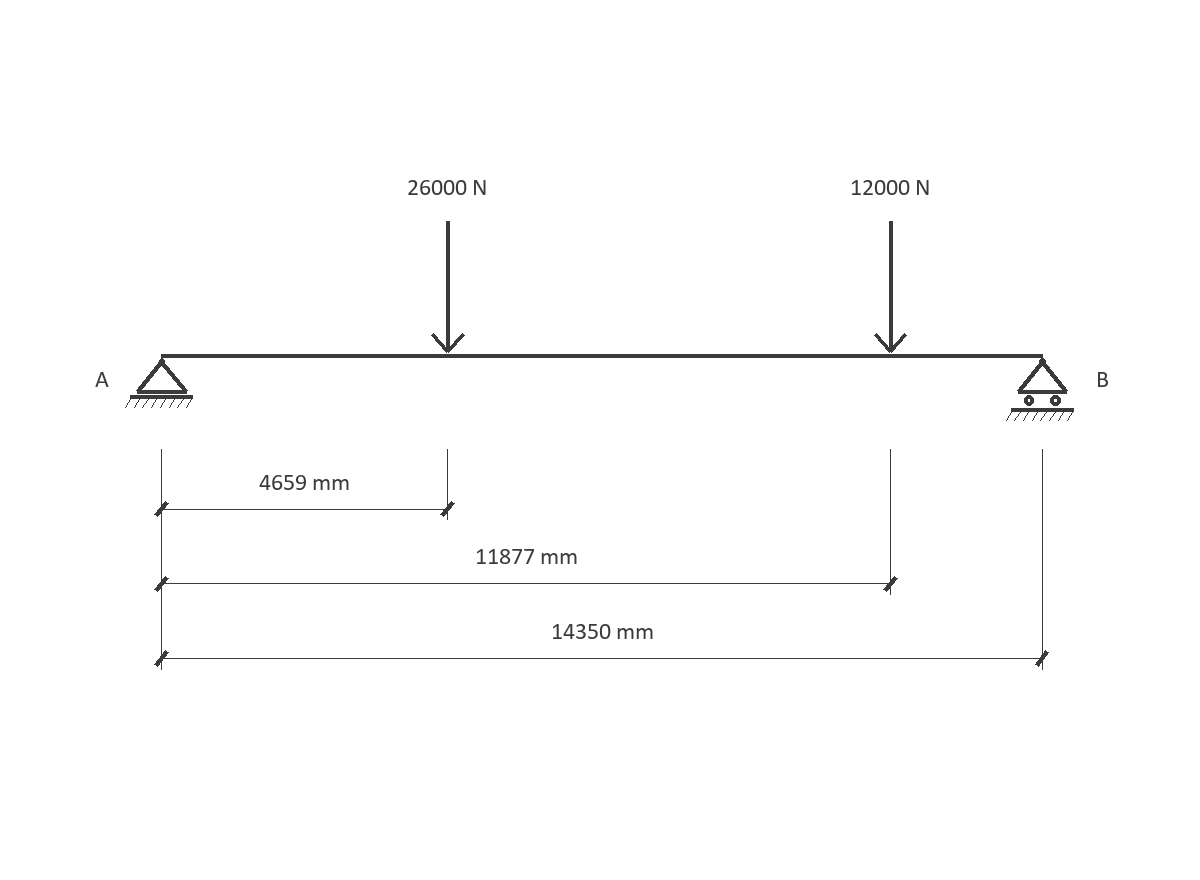pin_support: (125, 358, 193, 408)
point_load: (431, 221, 465, 353), (874, 221, 907, 353)
roller_support: (1006, 358, 1074, 421)
